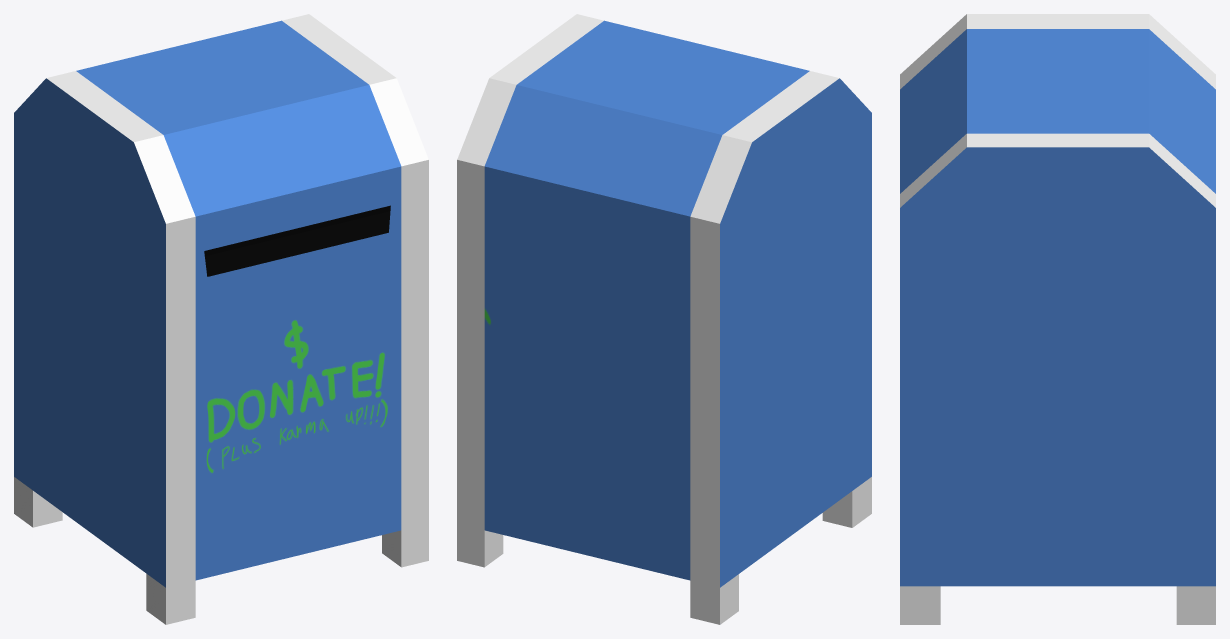
File: DONATE_BOX.fbx
3 renders of one model, left to right at view 1: azimuth 30°, elevation 25°; view 2: azimuth 150°, elevation 25°; view 3: azimuth 270°, elevation 25°, orthographic. The views are drawn at different scales.
Visible parts, largest first — view 1: Cube; view 2: Cube; view 3: Cube.
Boxes of the visible parts, bbox=[...] form: Cube: bbox=[14, 14, 428, 624]; Cube: bbox=[457, 14, 871, 624]; Cube: bbox=[900, 14, 1215, 624].
Bounding box in the file's own units: 200 × 334 × 200.
